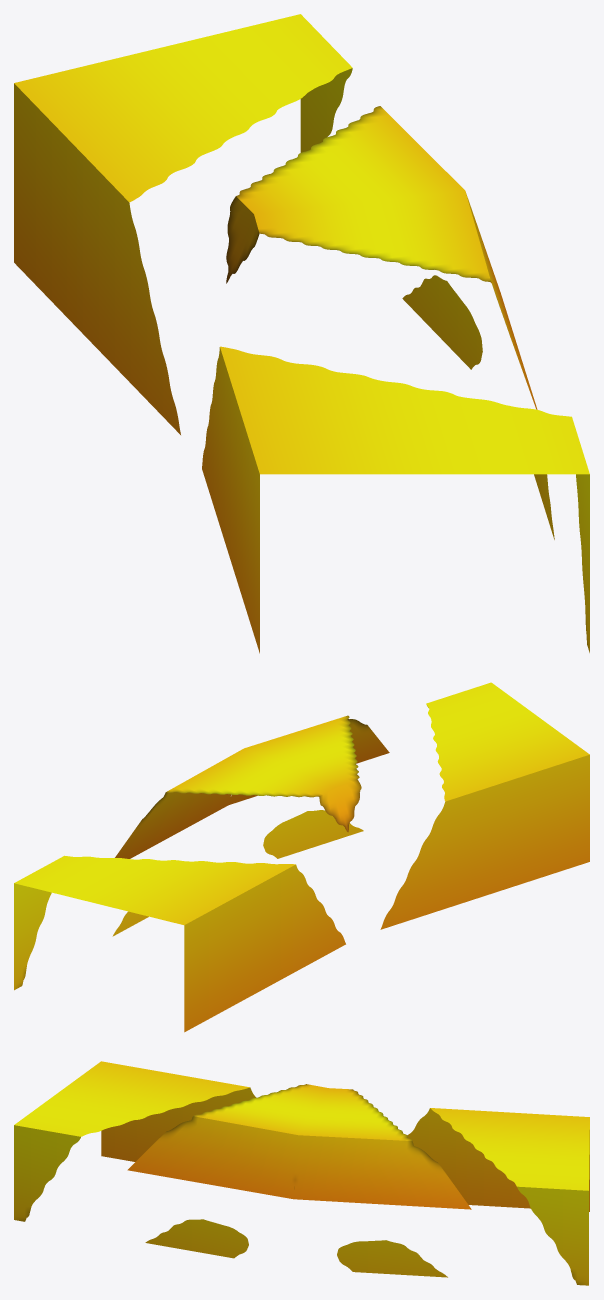
Rendered from ground.FBX.
3 renders of one model, top to bottom at view 1: azimuth 30°, elevation 25°; view 2: azimuth 150°, elevation 25°; view 3: azimuth 270°, elevation 25°, orthographic. The views are drawn at different scales.
Parts seen in each view (by area): view 1: Box01; view 2: Box01; view 3: Box01.
Boxes of the visible parts, box(x1,y1,x2,y2) form: Box01: box(14, 14, 589, 653); Box01: box(14, 682, 589, 1032); Box01: box(14, 1061, 589, 1285).
Size of the model in its own units: 26.36 by 11.58 by 49.54.
